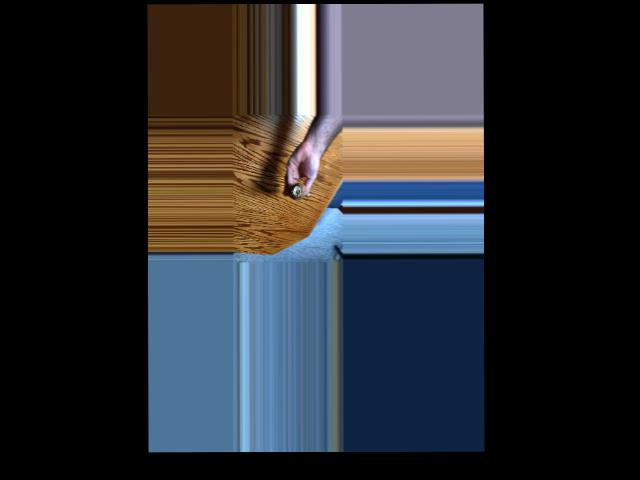sweet_potato: (291, 182, 308, 204)
